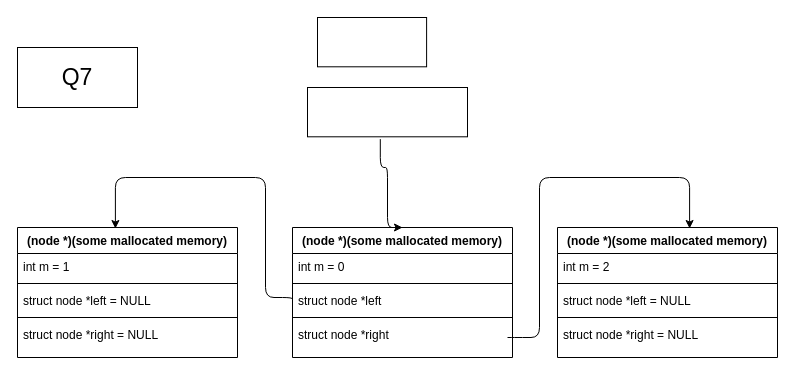
This 795x375 diagram has some shape labels left out. Each missing label, with the centre of its shape:
"int i = 2" belongs at point 371,41.
"tree p (node *p)" belongs at point 387,111.
